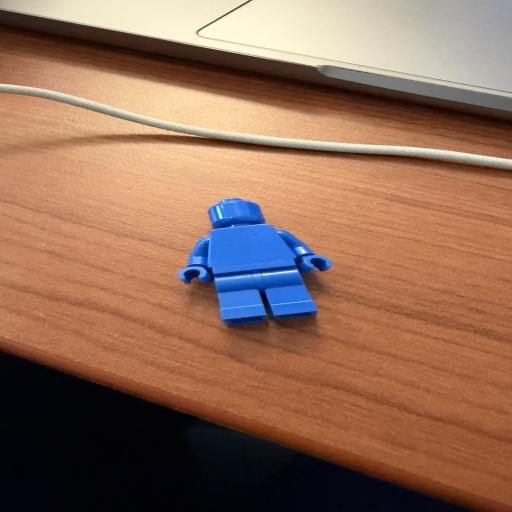Minifig: (176, 197, 334, 328)
